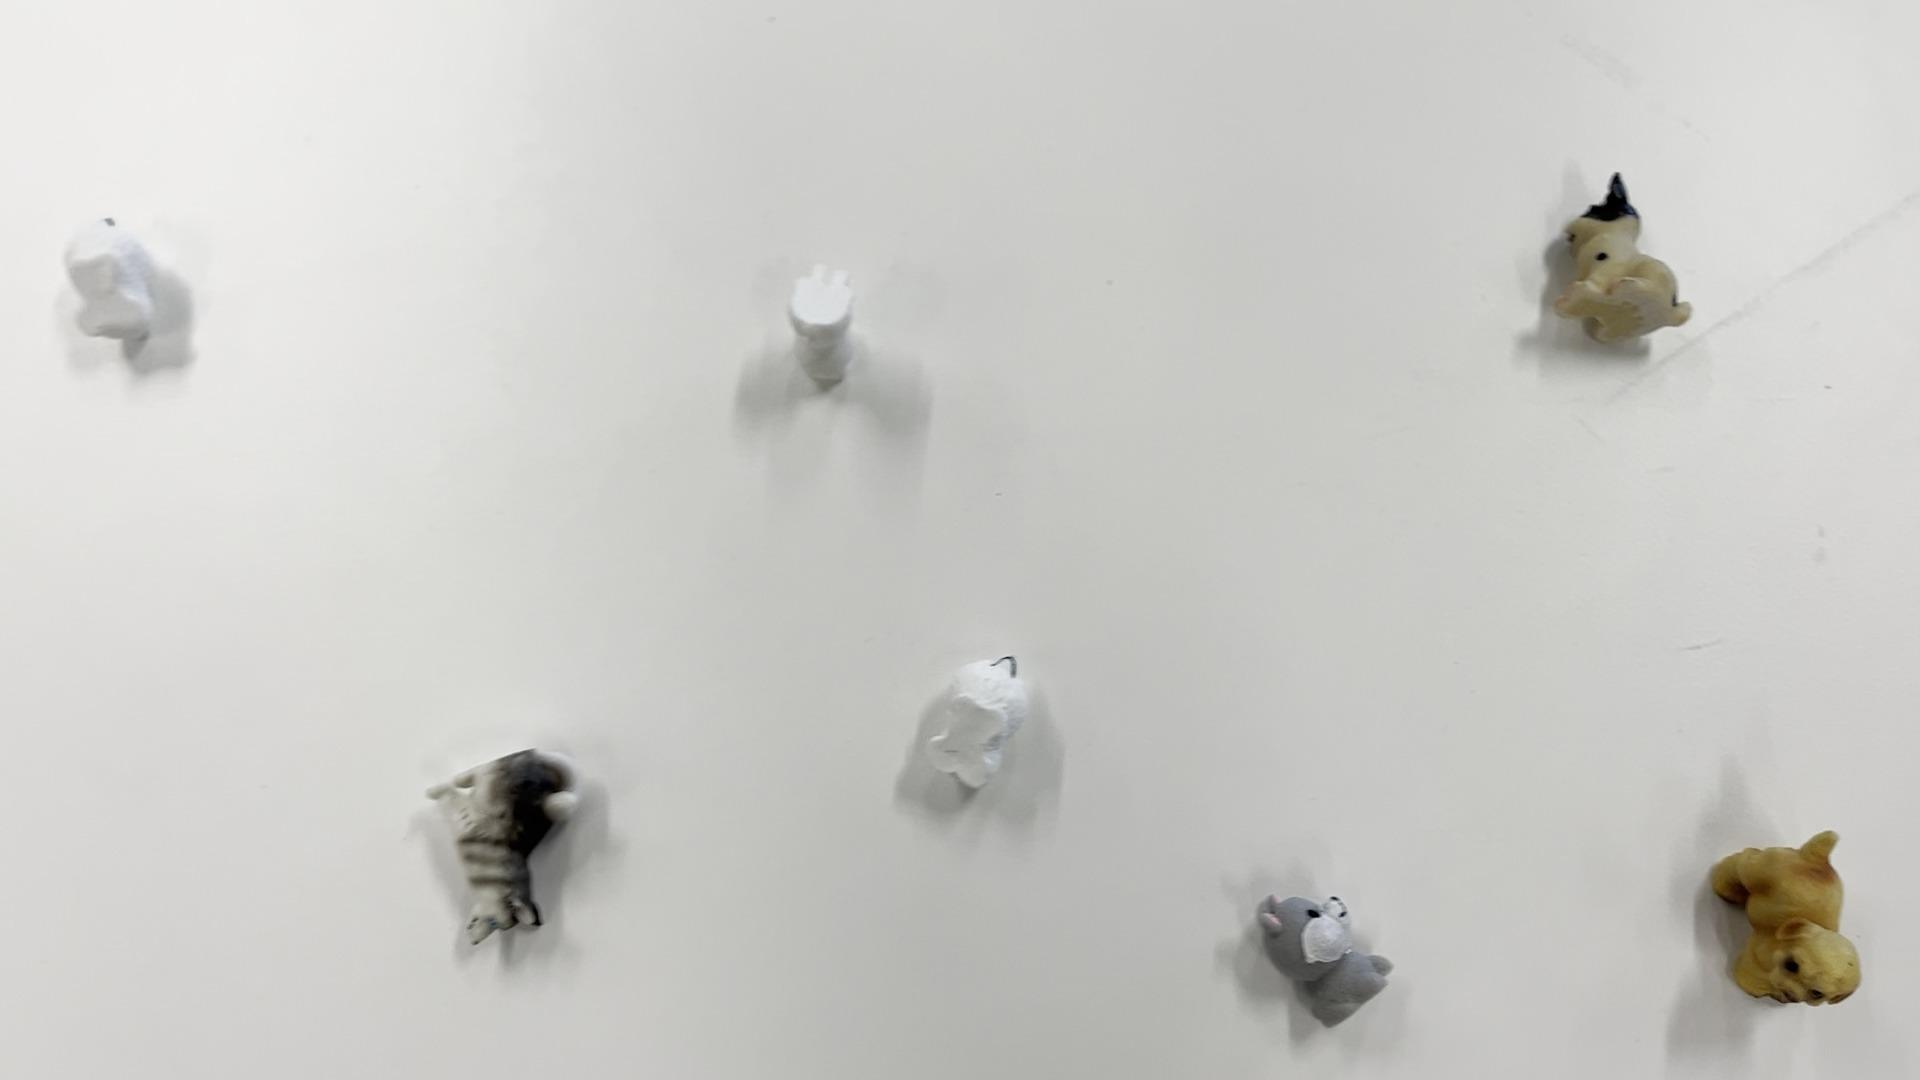pet: (423, 733, 597, 976), (1531, 169, 1705, 396), (1701, 815, 1878, 1022), (74, 214, 211, 398), (1247, 882, 1394, 1022), (901, 655, 998, 860), (761, 258, 874, 417)
